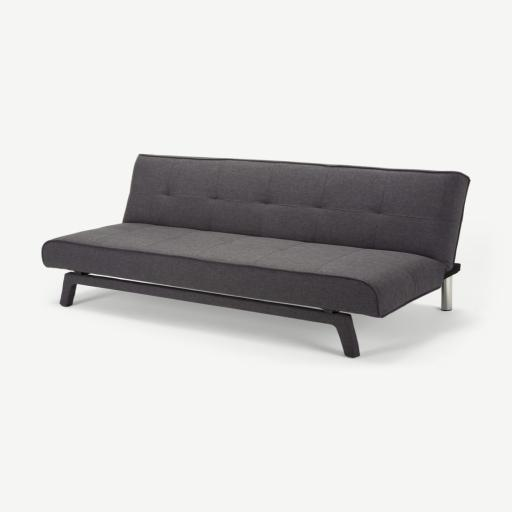back_cushion: (123, 155, 468, 266)
base: (60, 272, 359, 358)
legs: (441, 264, 459, 310), (336, 322, 359, 357), (61, 276, 76, 306)
one-seater: (42, 154, 469, 357)
seat_cushion: (43, 223, 444, 317)
